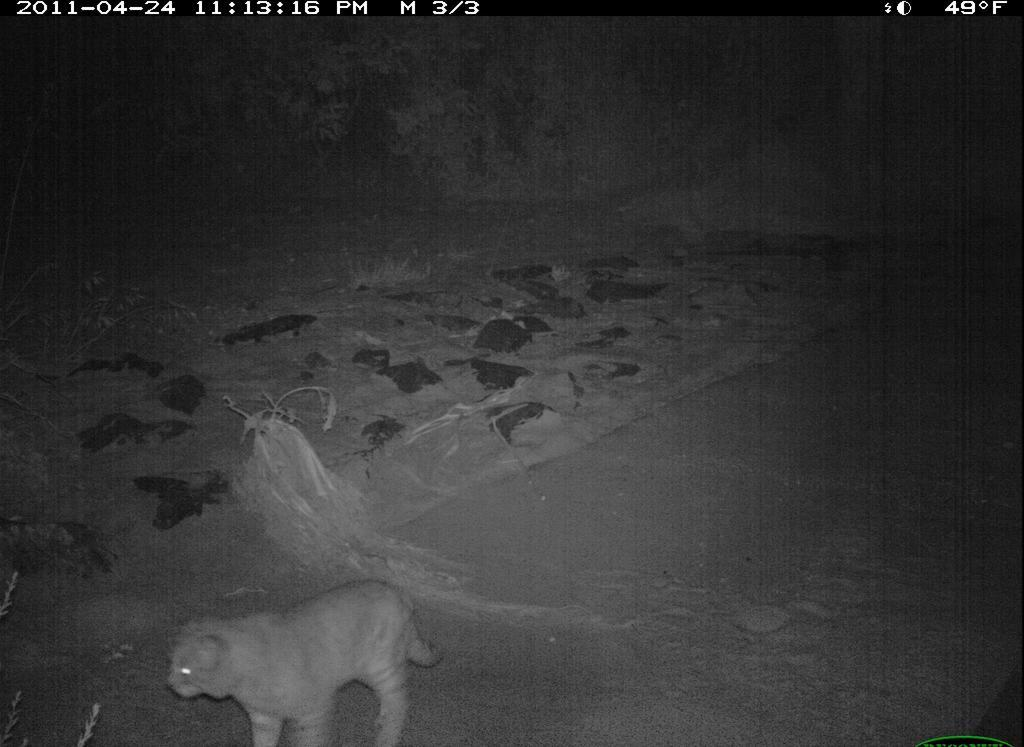cat: (161, 575, 454, 747)
